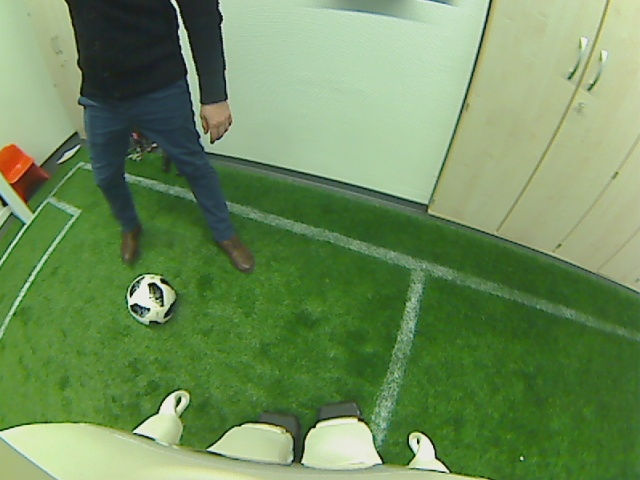ball: (125, 270, 179, 325)
